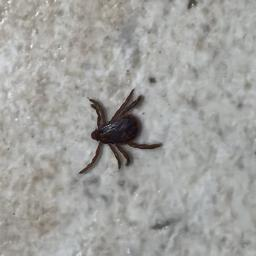Rhipicephalus sanguineus: (78, 88, 163, 175)
